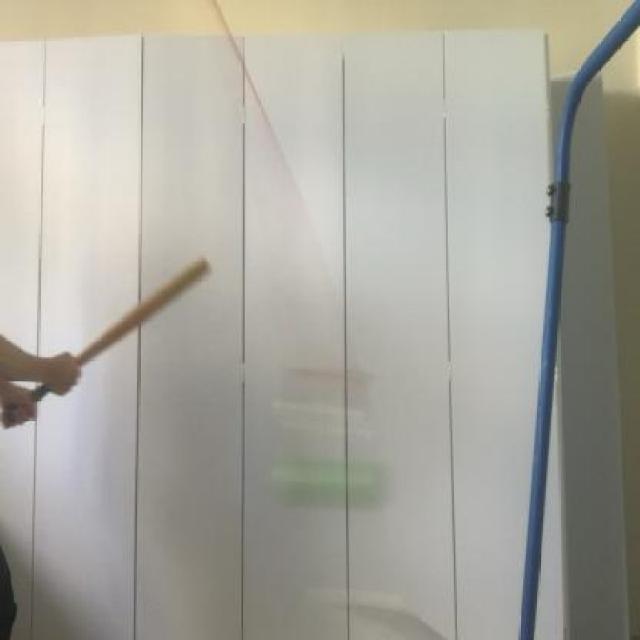baseball: (273, 440, 395, 529)
